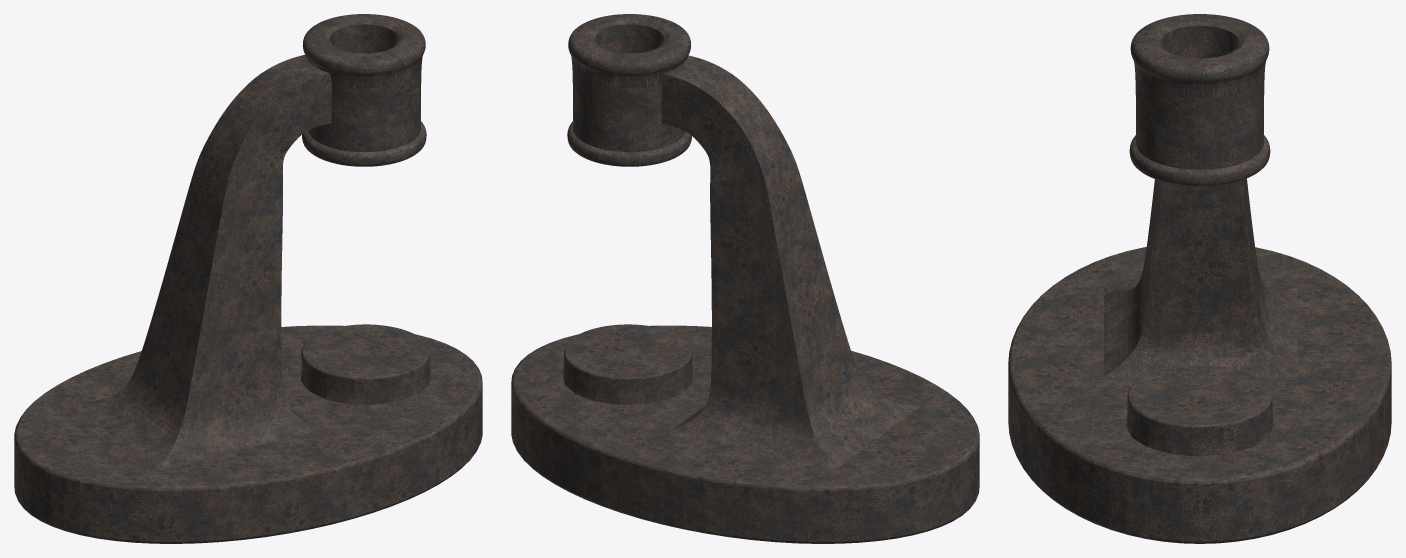
File: ScrewPressBase.fbx
3 views of the same model, side by side, from view 1: azimuth 30°, elevation 25°; view 2: azimuth 150°, elevation 25°; view 3: azimuth 270°, elevation 25° (orthographic). The views are drawn at different scales.
Visible parts, largest first — view 1: Base; view 2: Base; view 3: Base.
Part boxes in pixels (box(x1,y1,x2,y2)): Base: box(14, 14, 482, 543); Base: box(511, 14, 979, 543); Base: box(1008, 14, 1391, 543).
Size of the model in its own units: 43.33 by 37.81 by 29.22.
